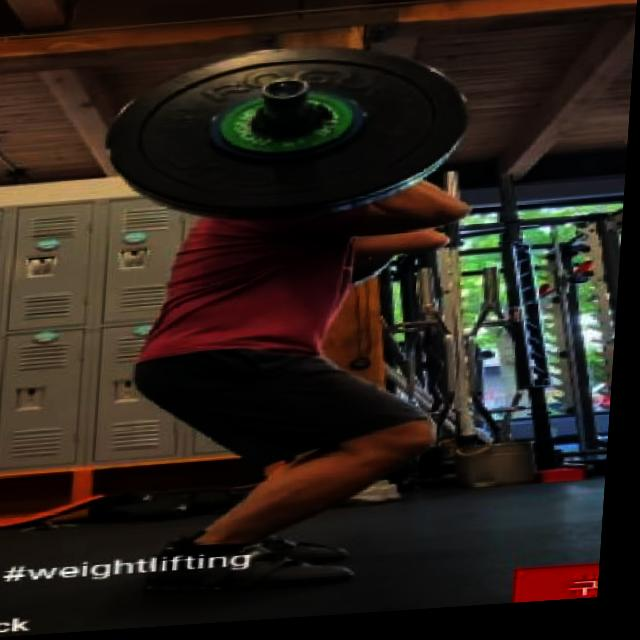barbell: (95, 36, 480, 236)
